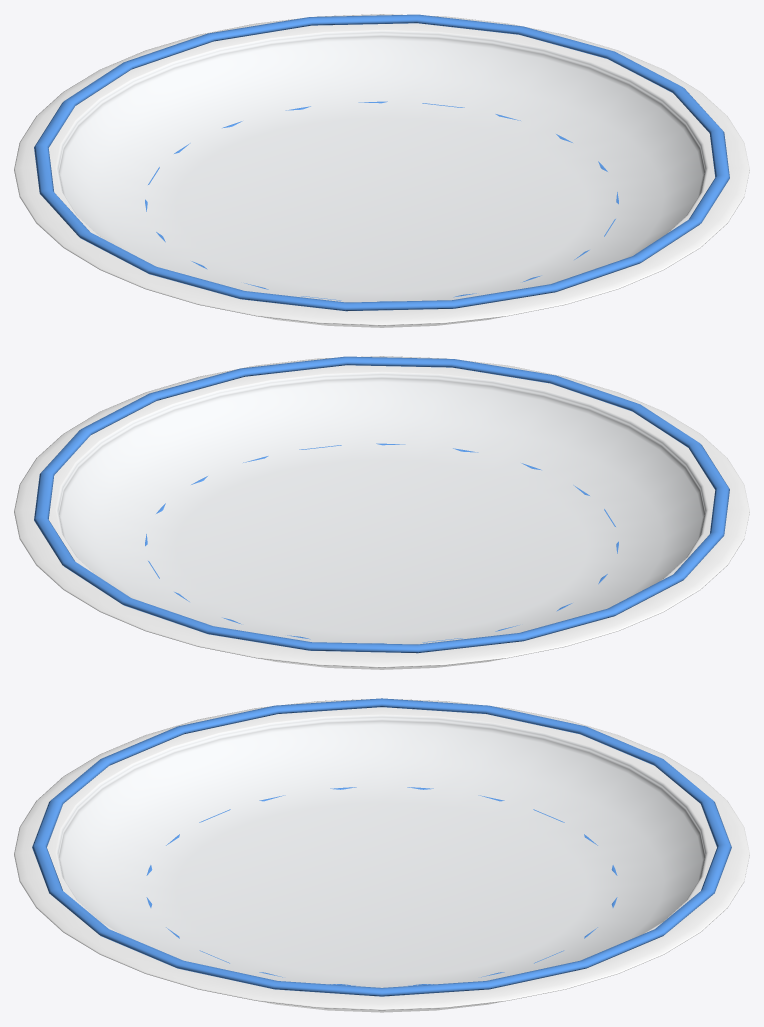
The model's file is plate.gltf.
3 views of the same model, one above another, from view 1: azimuth 30°, elevation 25°; view 2: azimuth 150°, elevation 25°; view 3: azimuth 270°, elevation 25° (orthographic).
Visible parts, largest first — view 1: PlateBody; view 2: PlateBody; view 3: PlateBody.
Boxes of the visible parts, x1,y1,x2,y2 form: PlateBody: [14, 14, 749, 327]; PlateBody: [14, 356, 749, 669]; PlateBody: [14, 698, 749, 1012].
Size of the model in its own units: 0.6919 by 0.0722 by 0.6919.
